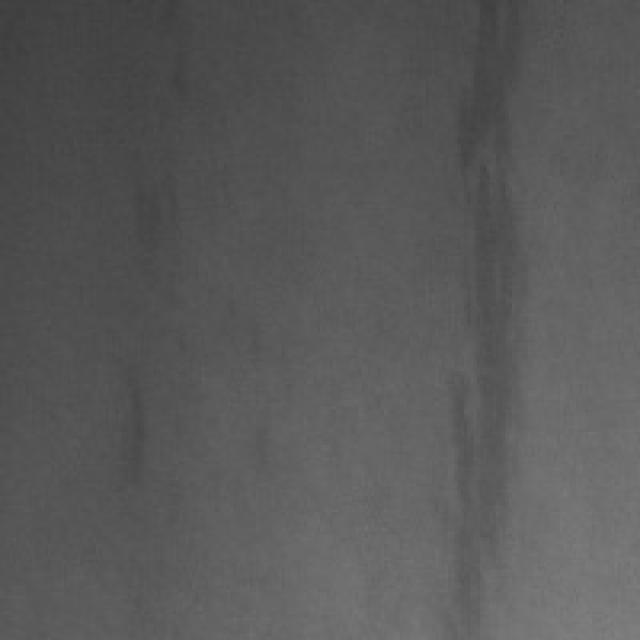inclusion: (432, 0, 544, 634), (118, 163, 186, 272), (102, 365, 160, 483)
